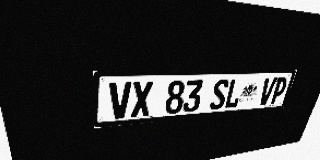3: (182, 80, 204, 113)
8: (165, 80, 186, 114)
L: (224, 78, 244, 109)
P: (269, 77, 289, 104)
S: (209, 79, 230, 110)
V: (109, 82, 132, 120), (257, 78, 277, 106)
X: (131, 81, 153, 117)
